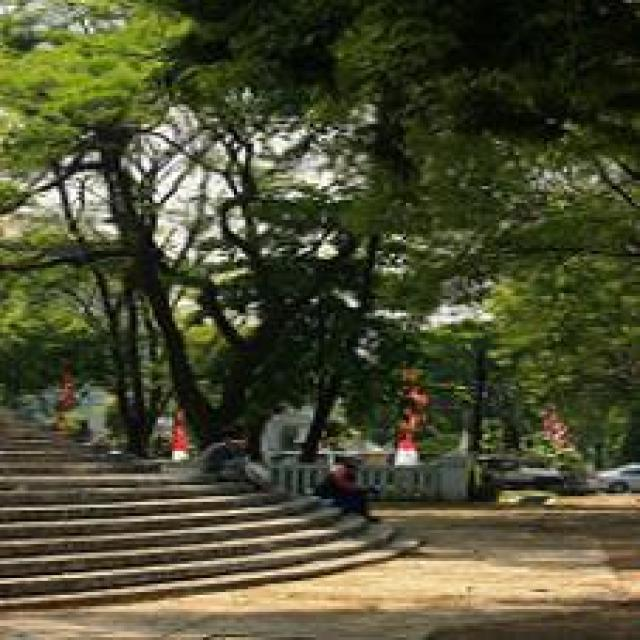upstair: (7, 424, 399, 593)
